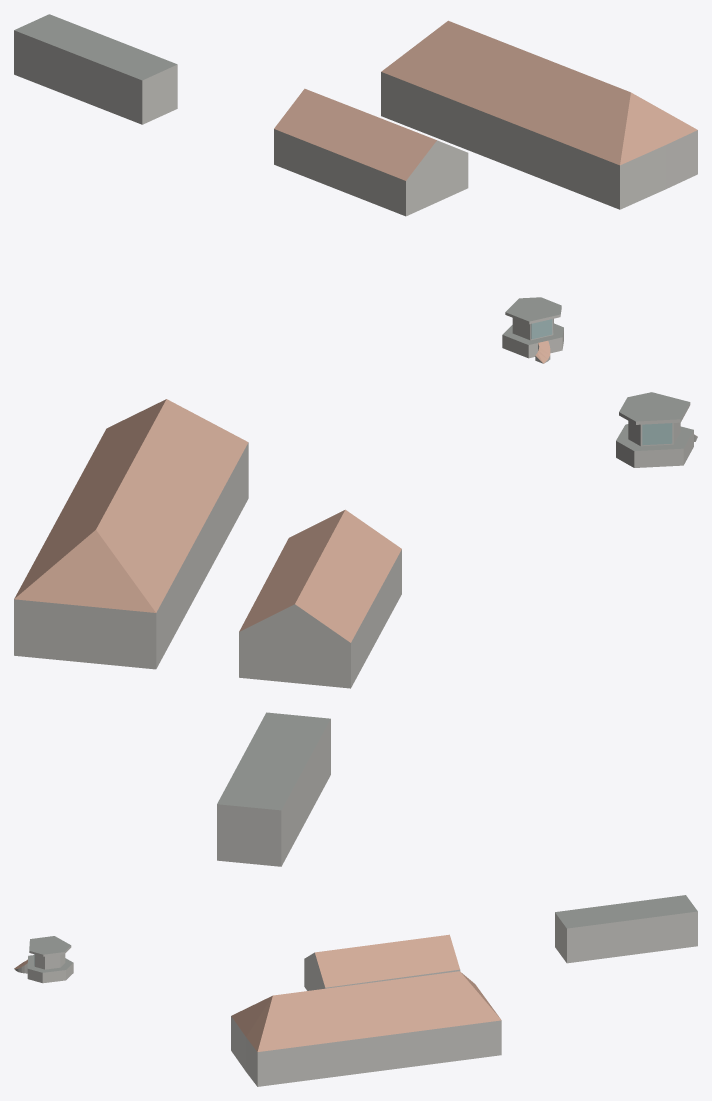
Rendered from gridID_71.dae.
3 views of the same model, one above another, from view 1: azimuth 30°, elevation 25°; view 2: azimuth 150°, elevation 25°; view 3: azimuth 270°, elevation 25° (orthographic). The views are drawn at different scales.
Visible parts, largest first — view 1: model_gridID_71_w375402053, model_gridID_71_w375402055_001, model_gridID_71_w375365803, model_gridID_71_w377338602; view 2: model_gridID_71_w375402053, model_gridID_71_w375402055_001, model_gridID_71_w375365803, model_gridID_71_w377338602; view 3: model_gridID_71_w375402053, model_gridID_71_w375365803, model_gridID_71_w375402055_001, model_gridID_71_w377338602.
Part boxes in pixels (x1,y1,x2,y2): model_gridID_71_w375402053: (381, 20, 697, 209); model_gridID_71_w375402055_001: (274, 88, 468, 216); model_gridID_71_w375365803: (14, 14, 177, 124); model_gridID_71_w377338602: (502, 297, 563, 363); model_gridID_71_w375402053: (14, 399, 248, 669); model_gridID_71_w375402055_001: (239, 509, 401, 688); model_gridID_71_w375365803: (217, 712, 330, 866); model_gridID_71_w377338602: (616, 392, 697, 467); model_gridID_71_w375402053: (231, 971, 501, 1086); model_gridID_71_w375365803: (555, 895, 697, 963); model_gridID_71_w375402055_001: (304, 934, 460, 990); model_gridID_71_w377338602: (14, 936, 73, 983).
Size of the model in its own units: 48.44 by 89.09 by 10.03.
